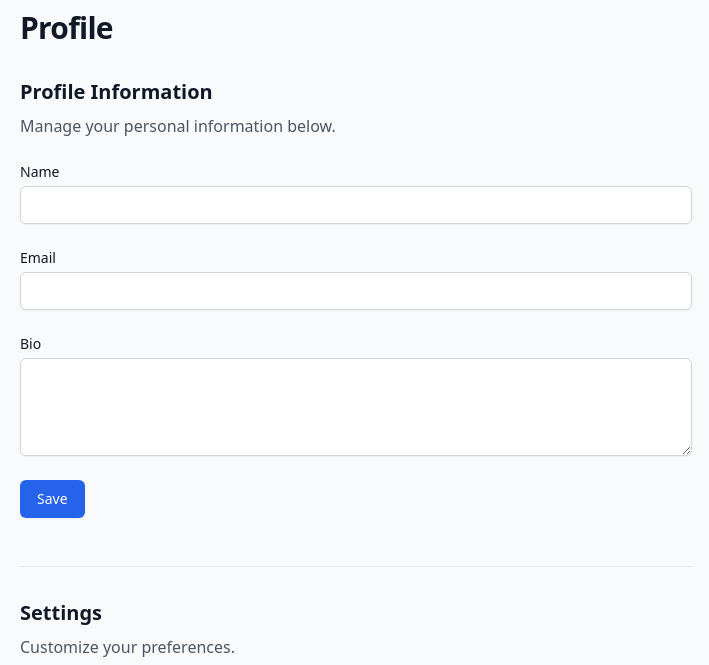
Profile Component › Validation - Error Messages › displays error message when email field is empty on submit
Step 1. Type "John Doe" into the field labelled "Name" → (356, 205), box [20,186,692,224]
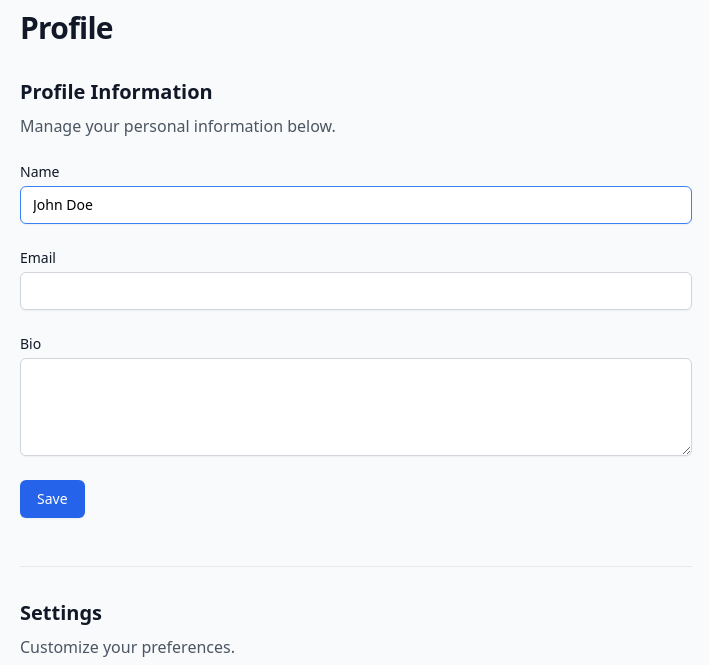
Step 2. Click the button "Save" → (52, 499), box [20,480,85,518]
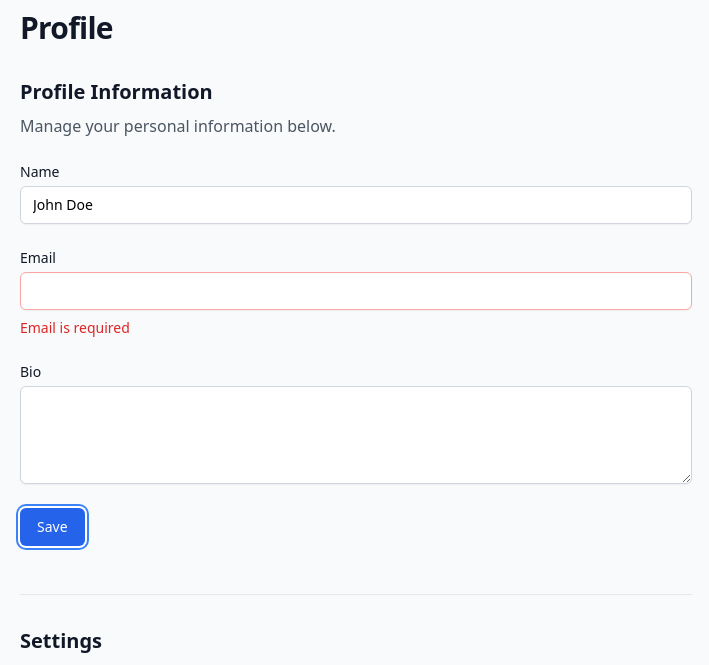
Expected: the text "Email is required" is shown, [20,318,130,337]
